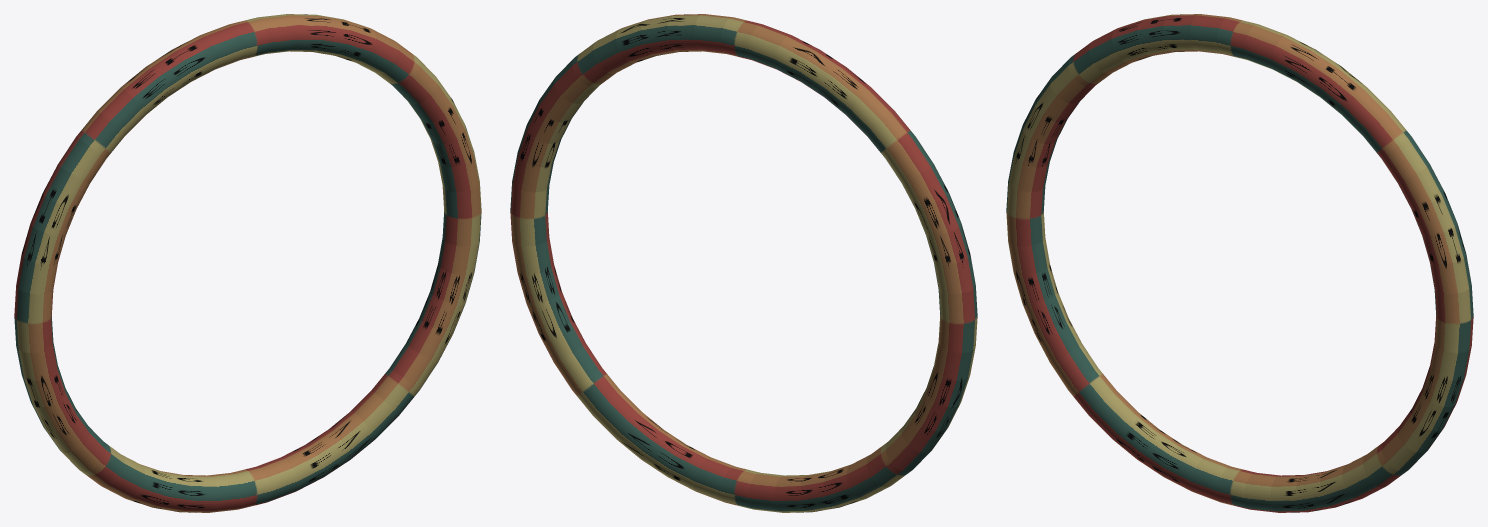
File: texture_torus_R30_r1.glb
The picture shows the model from 3 angles, left to right: view 1: azimuth 30°, elevation 25°; view 2: azimuth 150°, elevation 25°; view 3: azimuth 330°, elevation 25°; orthographic projection.
Parts seen in each view (by area): view 1: world; view 2: world; view 3: world.
Part boxes in pixels (x1,y1,x2,y2): world: [14, 14, 481, 512]; world: [510, 14, 977, 512]; world: [1006, 14, 1473, 512].
Bounding box in the file's own units: 32.27 × 32.2 × 2.26.
Materials: 1 (1 with a texture image).
